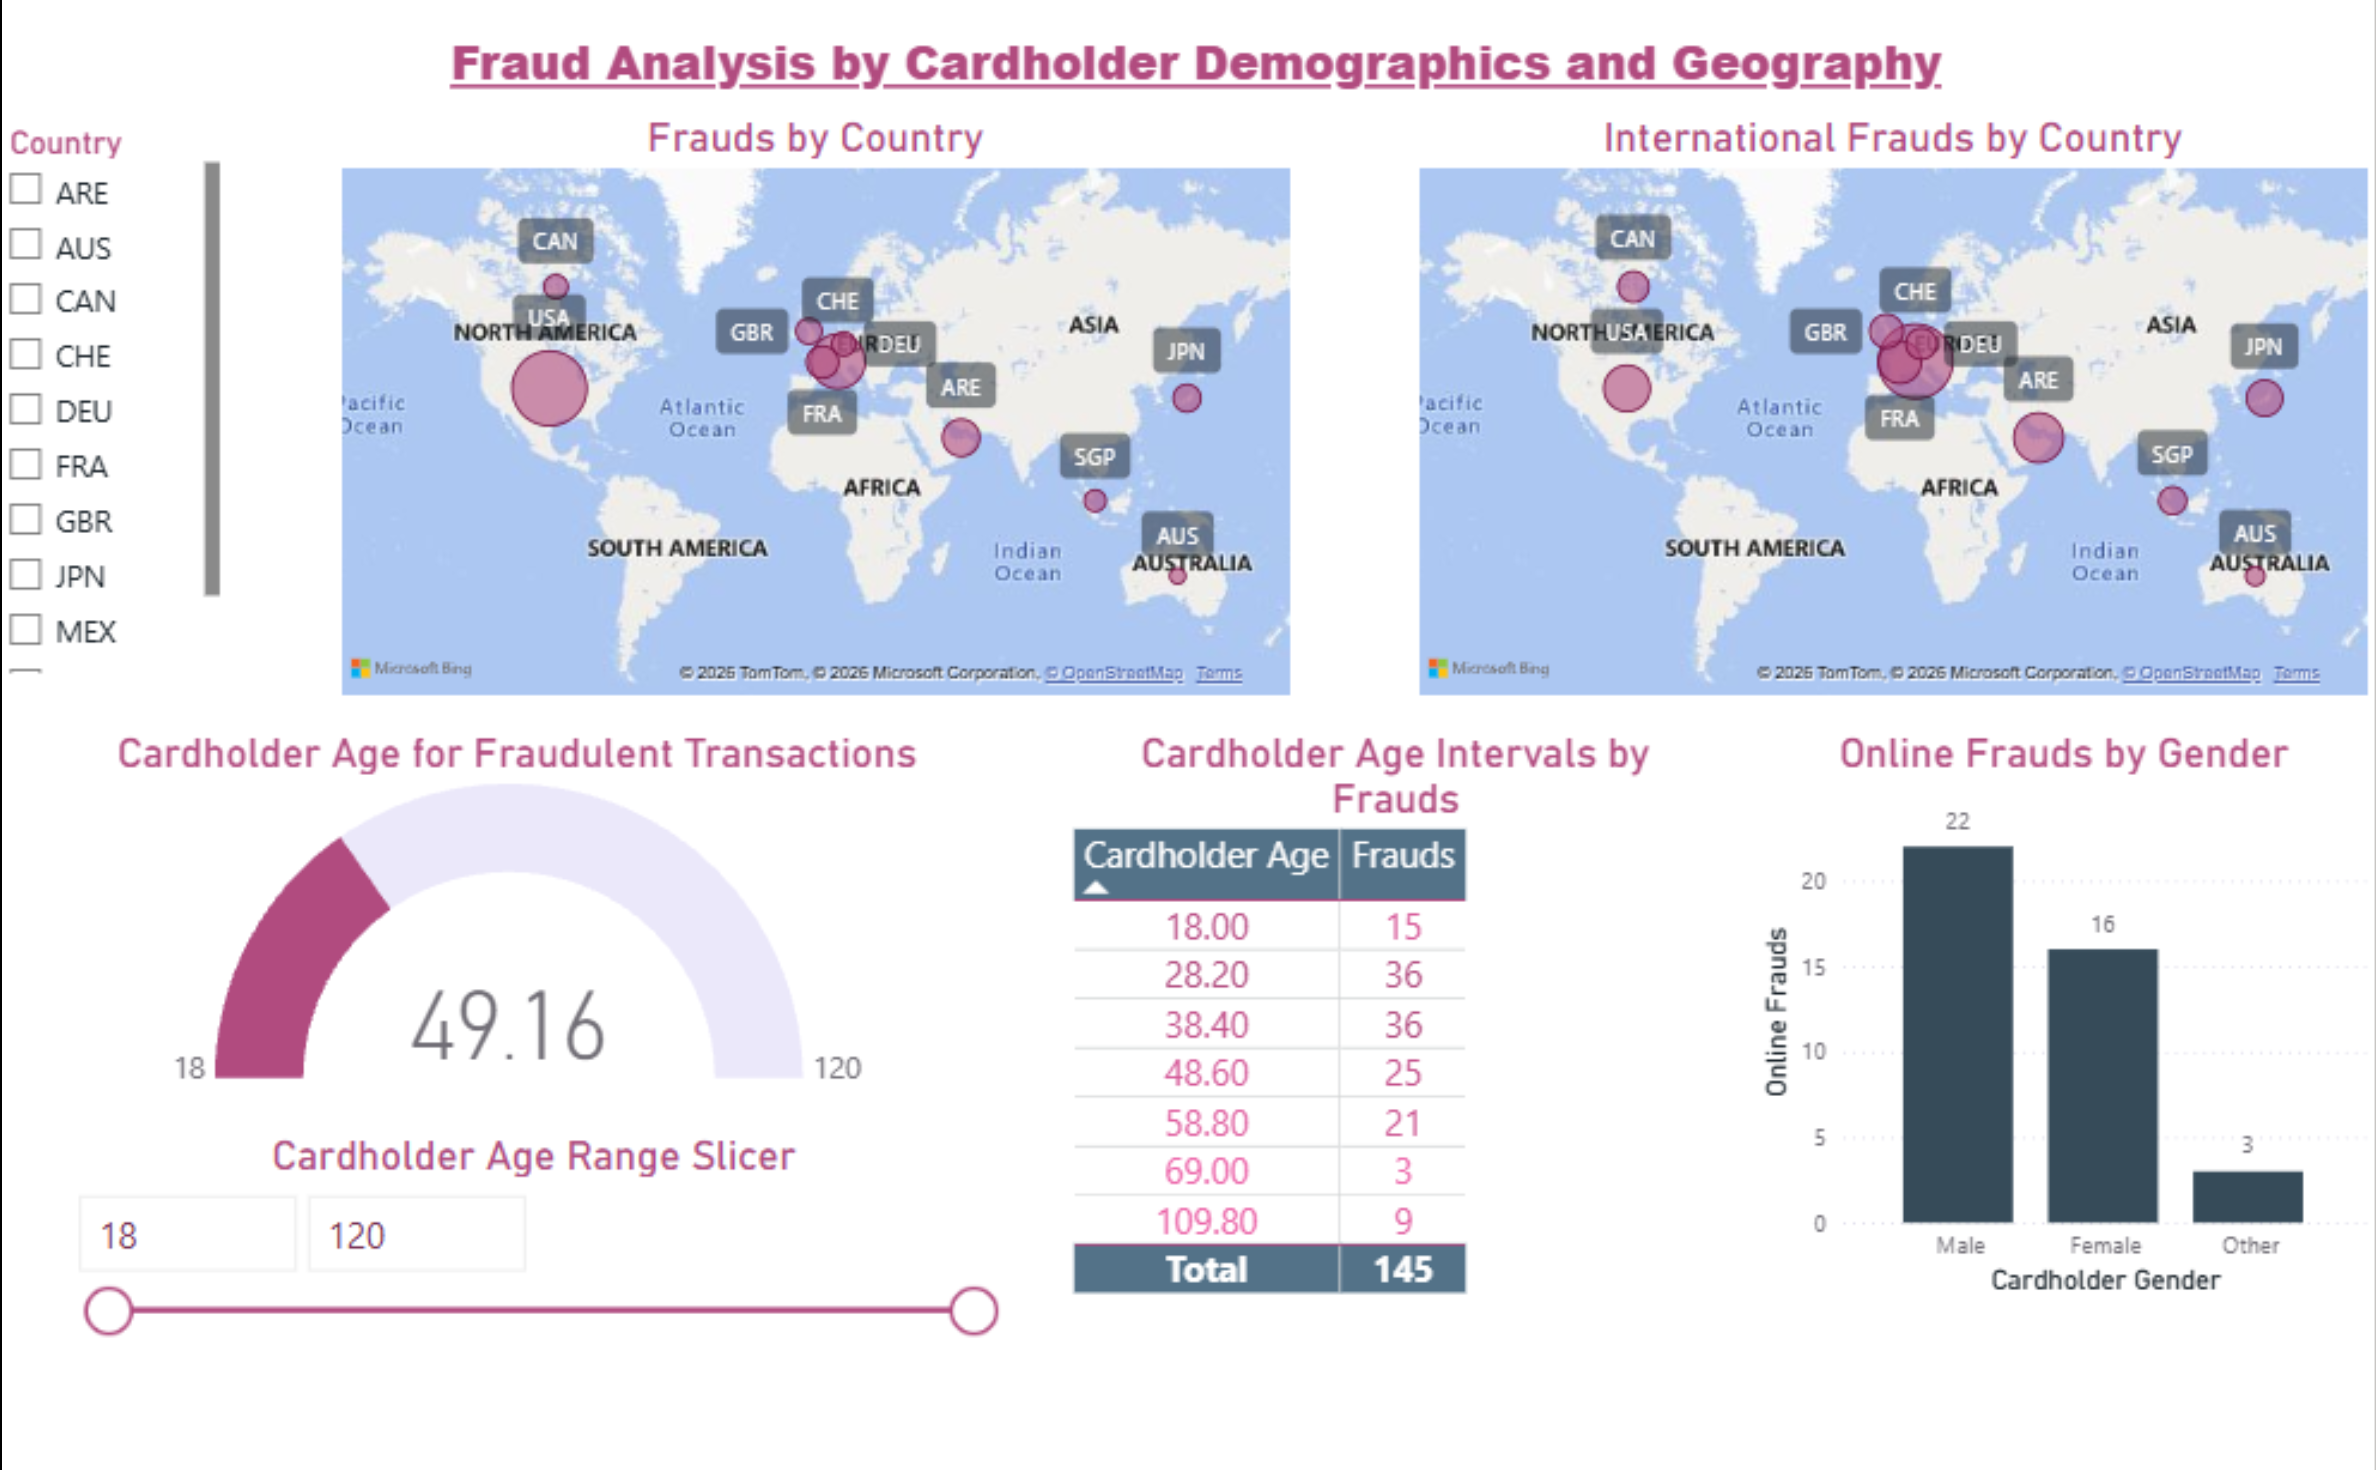

The page's visual inventory and layout, read from the dashboard file:
{"tool":"powerbi","page":{"name":"Geo_Fraud_Analysis","canvas":[1280,720],"ordinal":2},"visuals":[{"type":"textbox","box":[234.6,0,811.5,48.1],"z":0},{"type":"map","title":"Frauds by Country","fields":{"Category":["final_credit_card_data.transaction_country"],"Size":["Sum(final_credit_card_data.is_fraud)"]},"box":[183.3,48.6,511.1,312.5],"z":1000},{"type":"map","title":"International Frauds by Country","fields":{"Category":["final_credit_card_data.transaction_country"],"Size":["Sum(final_credit_card_data.is_international_fraud)"]},"box":[752.8,48.6,511.1,312.5],"z":2000},{"type":"slicer","fields":{"Values":["final_credit_card_data.transaction_country"]},"box":[0,48.6,129.2,301.4],"z":3000},{"type":"slicer","title":"Cardholder Age Range Slicer","fields":{"Values":["final_credit_card_data.cardholder_age"]},"box":[36.1,586.1,506.9,133.3],"z":4000},{"type":"tableEx","title":"Cardholder Age Intervals by Frauds","fields":{"Values":["final_credit_card_data.cardholder_age (bins)","Sum(final_credit_card_data.is_fraud)"]},"box":[570.2,373.2,352.3,315.6],"z":5000},{"type":"columnChart","title":"Online Frauds by Gender","fields":{"Category":["final_credit_card_data.cardholder_gender"],"Y":["Sum(final_credit_card_data.is_online_fraud)"]},"box":[934,374,330,304],"z":6000},{"type":"gauge","title":"Cardholder Age for Fraudulent Transactions","fields":{"Y":["final_credit_card_data.Avg_Cardholder_Age_Fraud"],"MinValue":["Min(final_credit_card_data.cardholder_age)"],"TargetValue":["Sum(final_credit_card_data.cardholder_age)1"],"MaxValue":["Max(final_credit_card_data.cardholder_age)"]},"box":[36.1,373.6,488.9,194.4],"z":7000}]}

Visuals, with their boxes on the page's 1280x720 design canvas (x1, y1, x2, y2). These are canvas units, not pixel positions in the 2376x1470 screenshot, which may show the page scaled, cropped or inside an application window:
textbox: 235:0:1046:48
"Frauds by Country" map: 183:49:694:361
"International Frauds by Country" map: 753:49:1264:361
slicer - final_credit_card_data.transaction_country: 0:49:129:350
"Cardholder Age Range Slicer" slicer: 36:586:543:719
"Cardholder Age Intervals by Frauds" tableEx: 570:373:922:689
"Online Frauds by Gender" columnChart: 934:374:1264:678
"Cardholder Age for Fraudulent Transactions" gauge: 36:374:525:568
